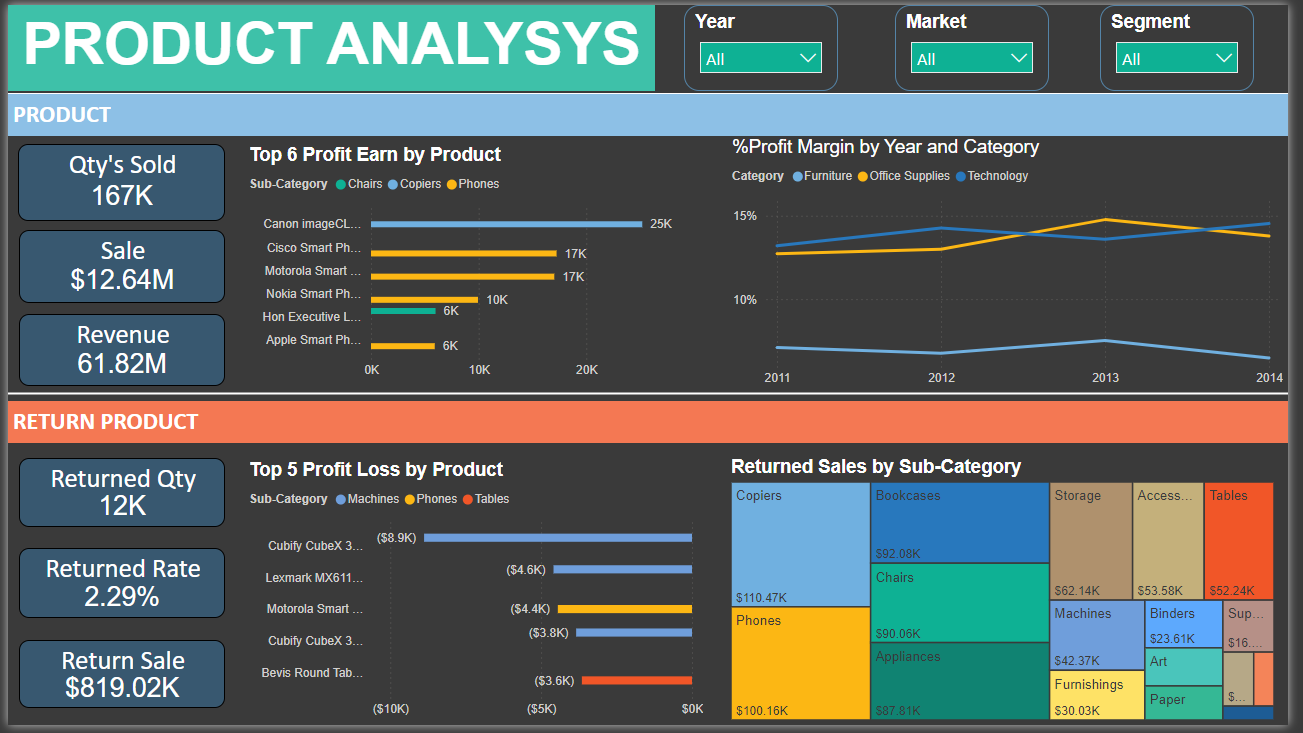

What the dashboard file says about the page in this screenshot:
{"tool":"powerbi","page":{"name":"Product","canvas":[1280,720],"ordinal":1},"visuals":[{"type":"textbox","box":[0,0,647.2,85.8],"z":0},{"type":"clusteredBarChart","title":"Top 6 Profit Earn by Product ","fields":{"Category":["Orders.Product Name"],"Y":["_Measure.Total Profit"],"Series":["Orders.Sub-Category"]},"box":[235.5,138.7,455.6,242.1],"z":1000},{"type":"slicer","title":"Year","fields":{"Values":["Orders.Order Date Hierarchy.Year"]},"box":[675.8,0,154.1,85.8],"z":2000},{"type":"shape","box":[0,70.4,1280,37.4],"z":3000},{"type":"lineChart","fields":{"Category":["Orders.Order Date Hierarchy.Year","Orders.Order Date Hierarchy.Quarter","Orders.Order Date Hierarchy.Month","Orders.Order Date Hierarchy.Day"],"Y":["_Measure.%Profit Margin"],"Series":["Orders.Category"]},"box":[718.7,131,561.3,257.5],"z":4000},{"type":"slicer","title":"Market","fields":{"Values":["Orders.Market"]},"box":[887.1,0,154.1,85.8],"z":5000},{"type":"slicer","title":"Segment","fields":{"Values":["Orders.Segment"]},"box":[1091.8,0,154.1,85.8],"z":6000},{"type":"card","title":"Returned Qty","fields":{"Values":["_Measure.Total Returned Quantity"]},"box":[11,453.4,205.8,68.2],"z":7000},{"type":"card","title":"Return Sale","fields":{"Values":["_Measure.Returned Order Sales"]},"box":[11,635,205.8,68.2],"z":8000},{"type":"card","title":"Qty''s Sold","fields":{"Values":["_Measure.Total Successful Quantity"]},"box":[9.6,138.8,207.1,76.9],"z":9000},{"type":"shape","box":[0,380.8,1280,15.4],"z":10000},{"type":"treemap","title":"Returned Sales by Sub-Category","fields":{"Group":["Orders.Sub-Category"],"Values":["_Measure.Total Returned Order Sales"]},"box":[718.5,450.5,553,269],"z":11000},{"type":"card","title":"Sale","fields":{"Values":["Sum(Orders.Sales)"]},"box":[10.7,225,206,72.6],"z":12000},{"type":"clusteredBarChart","title":"Top 5 Profit Loss by Product ","fields":{"Y":["Sum(Orders.Profit)"],"Category":["Orders.Product Name"],"Series":["Orders.Sub-Category"]},"box":[235.9,453.7,464.4,265.8],"z":13000},{"type":"card","title":"Returned Rate","fields":{"Values":["_Measure.Return Rate"]},"box":[11,542.6,205.8,70.4],"z":14000},{"type":"textbox","box":[0,396.2,1280,41.8],"z":15000},{"type":"textbox","box":[0,89.1,1280,41.8],"z":16000},{"type":"card","title":"Revenue","fields":{"Values":["_Measure.Total Revenue"]},"box":[10.7,308.5,206,72.6],"z":16001}]}

Visuals, with their boxes in screenshot pixels (x1, y1, x2, y2), scaled from the page's 1280x720 canvas onto the 1303x733 screenshot:
textbox: left=0, top=0, right=659, bottom=87
"Top 6 Profit Earn by Product " clusteredBarChart: left=240, top=141, right=704, bottom=388
"Year" slicer: left=688, top=0, right=845, bottom=87
shape: left=0, top=72, right=1302, bottom=110
lineChart - Orders.Order Date Hierarchy.Year x Orders.Order Date Hierarchy.Quarter: left=732, top=133, right=1302, bottom=396
"Market" slicer: left=903, top=0, right=1060, bottom=87
"Segment" slicer: left=1111, top=0, right=1268, bottom=87
"Returned Qty" card: left=11, top=462, right=221, bottom=531
"Return Sale" card: left=11, top=646, right=221, bottom=716
"Qty''s Sold" card: left=10, top=141, right=221, bottom=220
shape: left=0, top=388, right=1302, bottom=403
"Returned Sales by Sub-Category" treemap: left=731, top=459, right=1294, bottom=732
"Sale" card: left=11, top=229, right=221, bottom=303
"Top 5 Profit Loss by Product " clusteredBarChart: left=240, top=462, right=713, bottom=732
"Returned Rate" card: left=11, top=552, right=221, bottom=624
textbox: left=0, top=403, right=1302, bottom=446
textbox: left=0, top=91, right=1302, bottom=133
"Revenue" card: left=11, top=314, right=221, bottom=388
